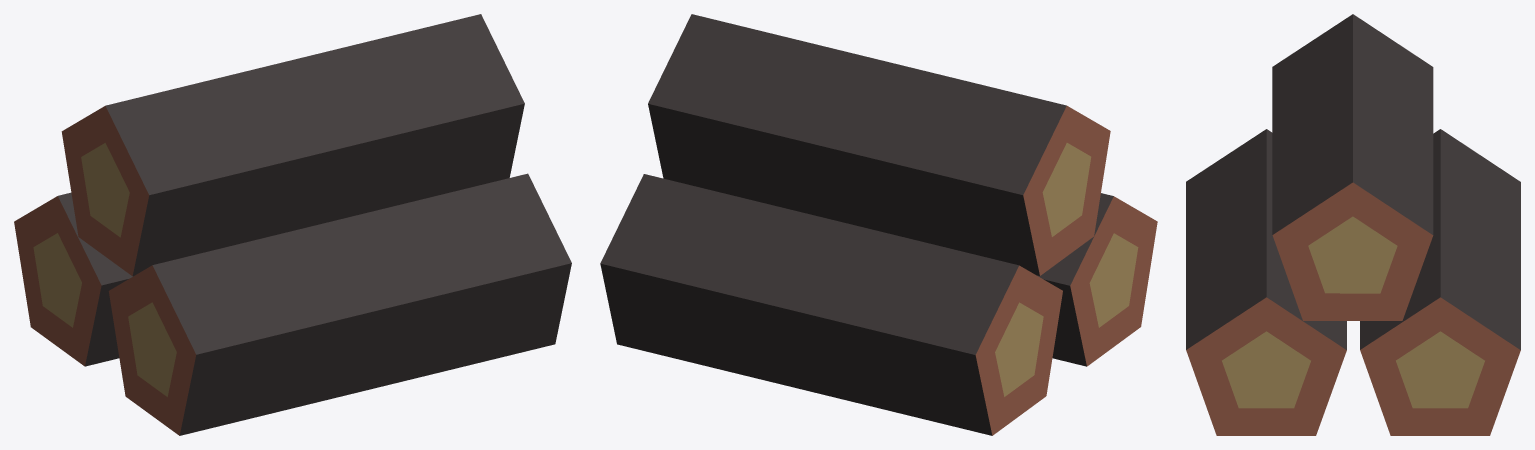
File: TB_Prop_LumberPile_Small_C.FBX
3 views of the same model, side by side, from view 1: azimuth 30°, elevation 25°; view 2: azimuth 150°, elevation 25°; view 3: azimuth 270°, elevation 25° (orthographic). The views are drawn at different scales.
Parts seen in each view (by area): view 1: TB_Prop_LumberPile_Small_C; view 2: TB_Prop_LumberPile_Small_C; view 3: TB_Prop_LumberPile_Small_C.
Boxes of the visible parts, bbox=[...] form: TB_Prop_LumberPile_Small_C: bbox=[14, 14, 571, 435]; TB_Prop_LumberPile_Small_C: bbox=[600, 14, 1157, 435]; TB_Prop_LumberPile_Small_C: bbox=[1186, 14, 1520, 435].
Bounding box in the file's own units: 1.65 × 1.16 × 1.39.
